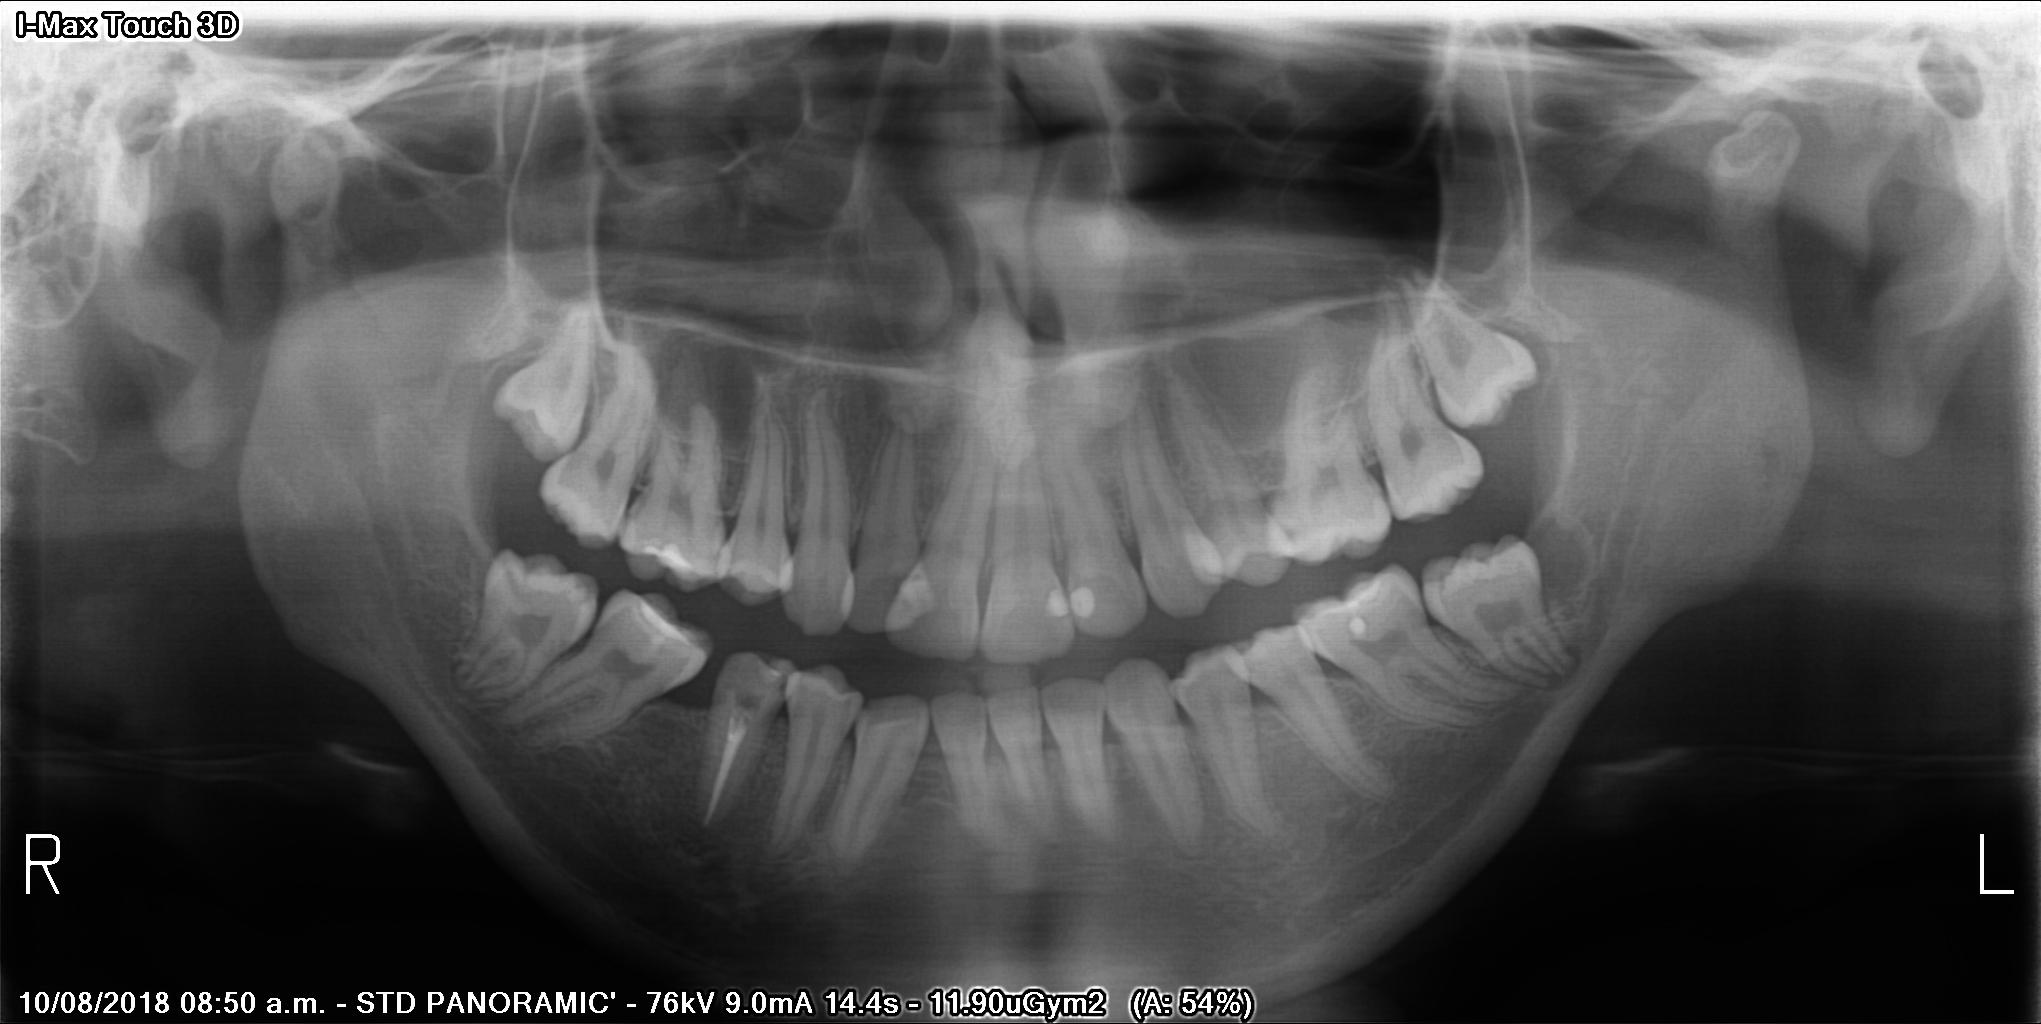Çürük: (625, 590, 696, 650), (640, 536, 699, 586), (1050, 590, 1073, 620), (1076, 589, 1094, 619), (1348, 618, 1365, 636)
Çürük Bölgesi: (773, 670, 790, 699)
